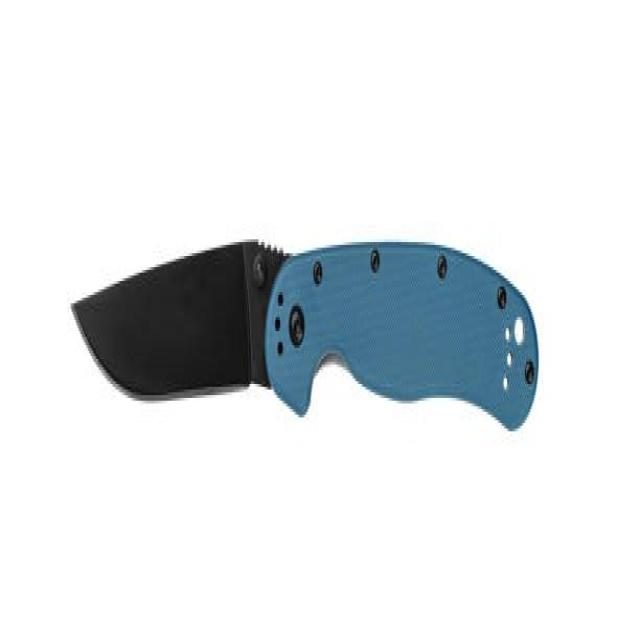knife: (64, 226, 544, 469)
